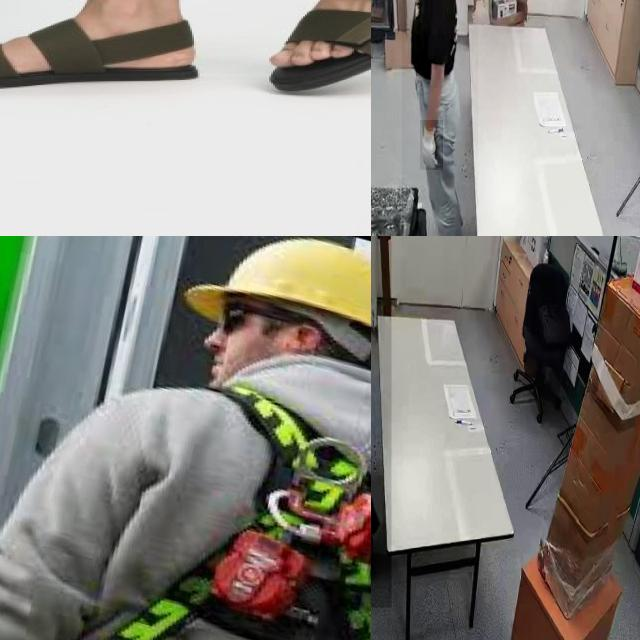Harness: (109, 383, 371, 640)
Sandals: (0, 19, 210, 107), (263, 0, 371, 99)
hand_glove: (420, 120, 444, 171)
person: (401, 0, 478, 236)
